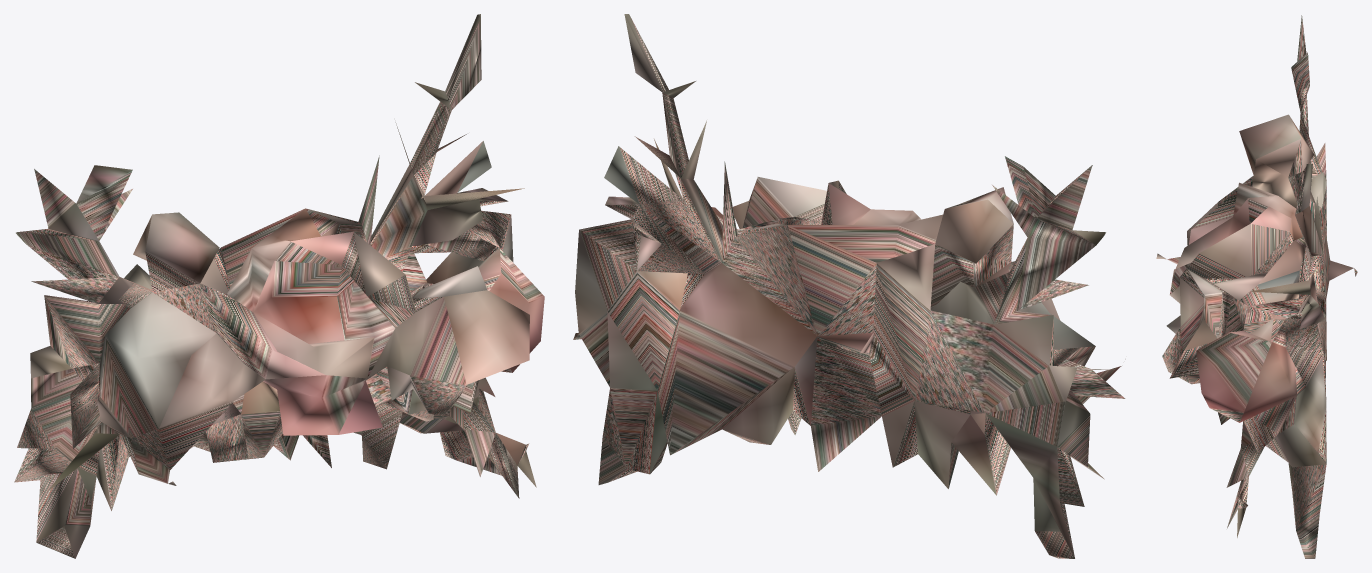
3 views of the same model, side by side, from view 1: azimuth 30°, elevation 25°; view 2: azimuth 150°, elevation 25°; view 3: azimuth 270°, elevation 25° (orthographic). The views are drawn at different scales.
Parts seen in each view (by area): view 1: Rose-Spray-9-18; view 2: Rose-Spray-9-18; view 3: Rose-Spray-9-18.
Part boxes in pixels (<box>): Rose-Spray-9-18: <box>14,14,544,558</box>; Rose-Spray-9-18: <box>573,14,1125,558</box>; Rose-Spray-9-18: <box>1156,15,1357,558</box>.
Size of the model in its own units: 0.2503 by 0.217 by 0.1023.
Materials: 1 (1 with a texture image).
